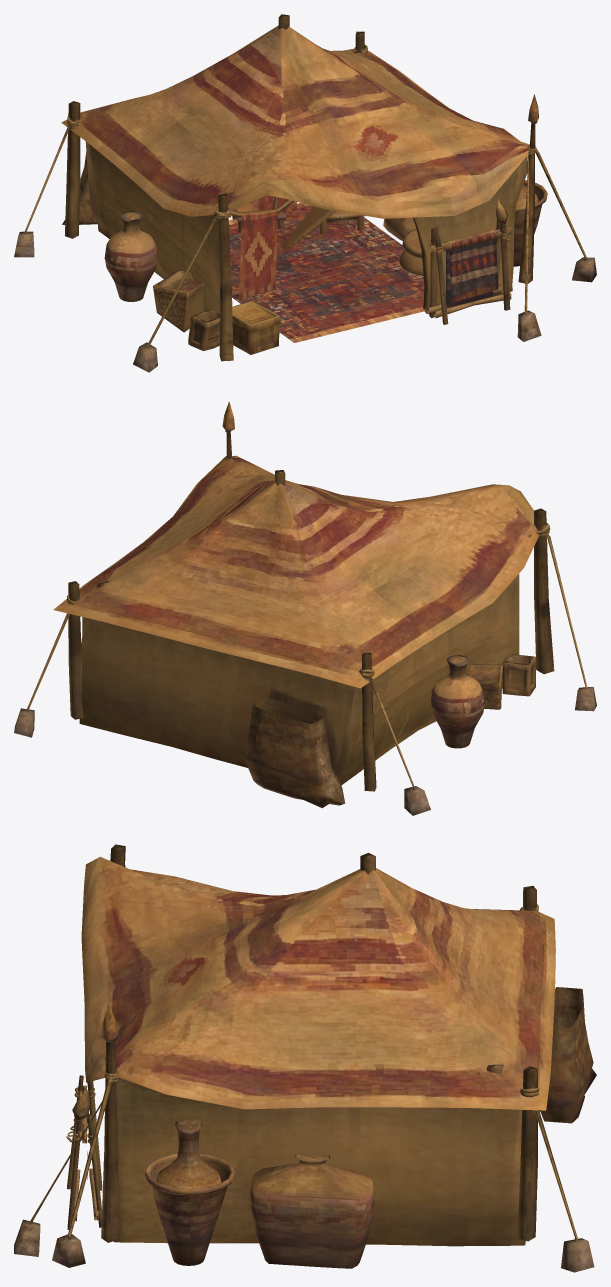
File: tripo_convert_a9c2dfc5-1cb6-48a8-b3f2-a0f94cedeb64.fbx
3 renders of one model, top to bottom at view 1: azimuth 30°, elevation 25°; view 2: azimuth 150°, elevation 25°; view 3: azimuth 270°, elevation 25°, orthographic. The views are drawn at different scales.
Visible parts, largest first — view 1: tripo_node_a9c2dfc5; view 2: tripo_node_a9c2dfc5; view 3: tripo_node_a9c2dfc5.
Part boxes in pixels (x1=…): tripo_node_a9c2dfc5: x1=14, y1=14, x2=596, y2=372; tripo_node_a9c2dfc5: x1=14, y1=401, x2=596, y2=815; tripo_node_a9c2dfc5: x1=14, y1=844, x2=596, y2=1272.
Size of the model in its own units: 0.9995 by 0.5688 by 0.9146.
1 material, 1 textured.
